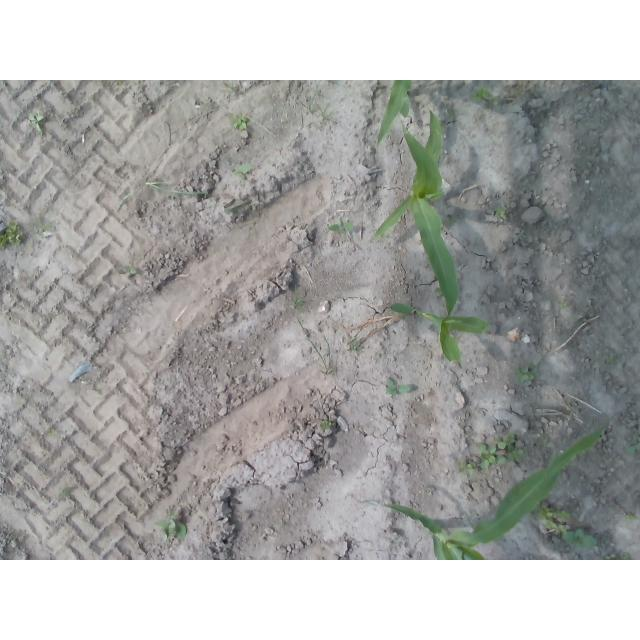Maize: (367, 418, 611, 560), (389, 195, 487, 362), (374, 108, 444, 236), (375, 80, 411, 142)
Weeds: (531, 498, 598, 550), (476, 433, 524, 467), (155, 509, 187, 538), (0, 219, 24, 249), (472, 86, 501, 106), (514, 361, 539, 384), (385, 377, 412, 395), (28, 108, 45, 134), (626, 422, 640, 453), (328, 217, 352, 235), (33, 218, 53, 235), (229, 113, 247, 131), (442, 214, 462, 229), (233, 163, 252, 178), (456, 461, 476, 475), (346, 336, 362, 353), (493, 205, 508, 220), (605, 552, 632, 560), (540, 434, 551, 453), (116, 266, 136, 275), (558, 298, 571, 310), (294, 293, 305, 307), (445, 108, 459, 118), (320, 420, 333, 430), (604, 354, 616, 364), (59, 485, 70, 495), (48, 428, 57, 436), (626, 515, 635, 522)
